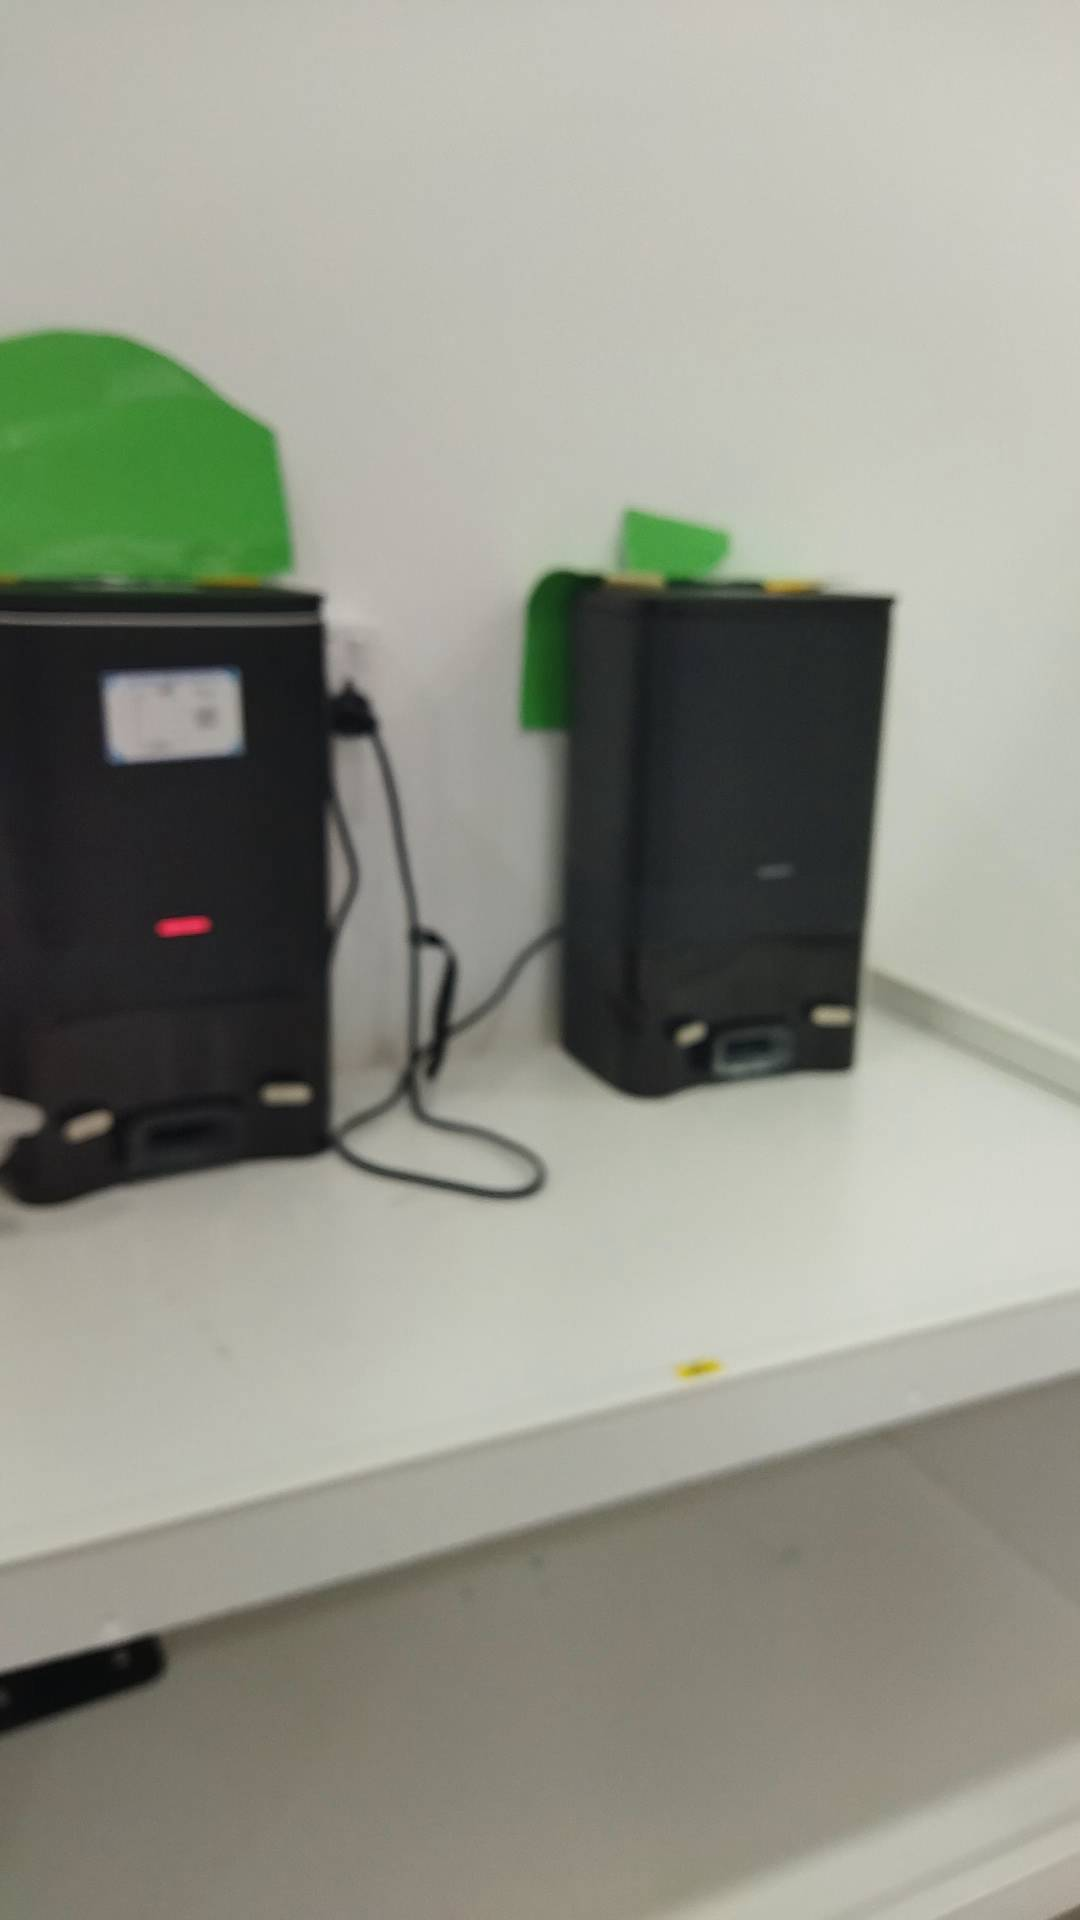dust collecting barrel: (1, 576, 334, 1211), (559, 580, 895, 1098)
